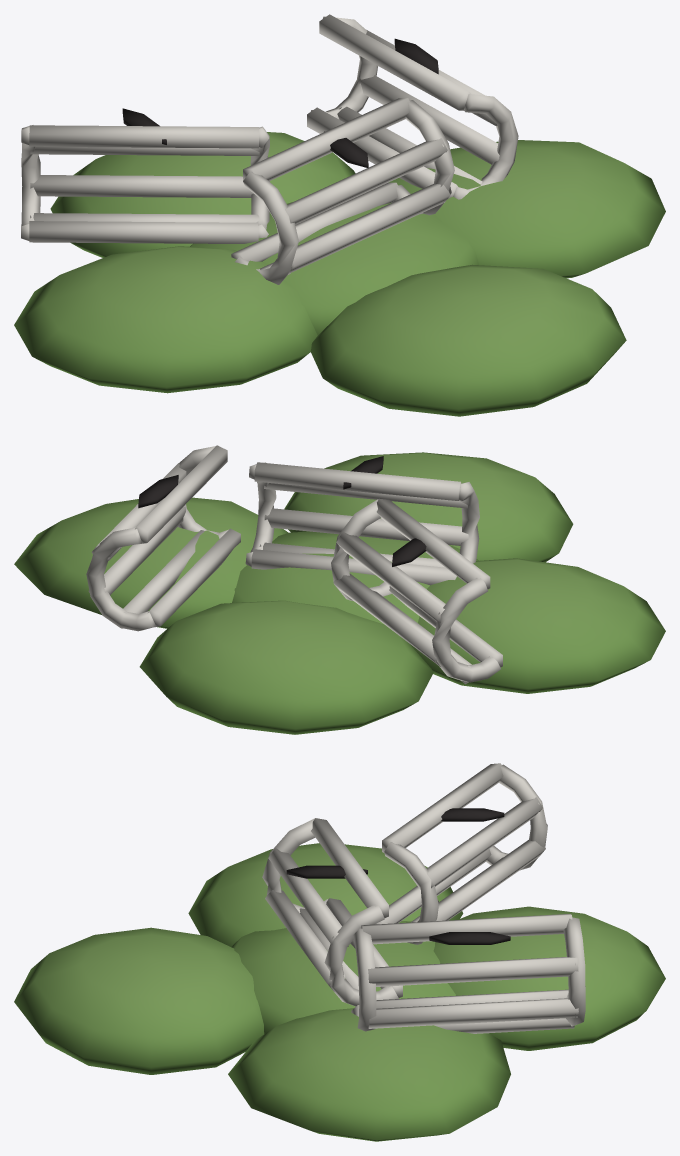
The model's file is ing_birch_bark.glb.
3 views of the same model, one above another, from view 1: azimuth 30°, elevation 25°; view 2: azimuth 150°, elevation 25°; view 3: azimuth 270°, elevation 25° (orthographic). The views are drawn at different scales.
Visible parts, largest first — view 1: ing_birch_bark; view 2: ing_birch_bark; view 3: ing_birch_bark.
Part boxes in pixels (box(x1,y1,x2,y2)): ing_birch_bark: box(14, 14, 665, 416); ing_birch_bark: box(14, 445, 665, 734); ing_birch_bark: box(14, 763, 665, 1141).
Size of what is drawn, in the model's own units: 0.469 by 0.106 by 0.4449.
